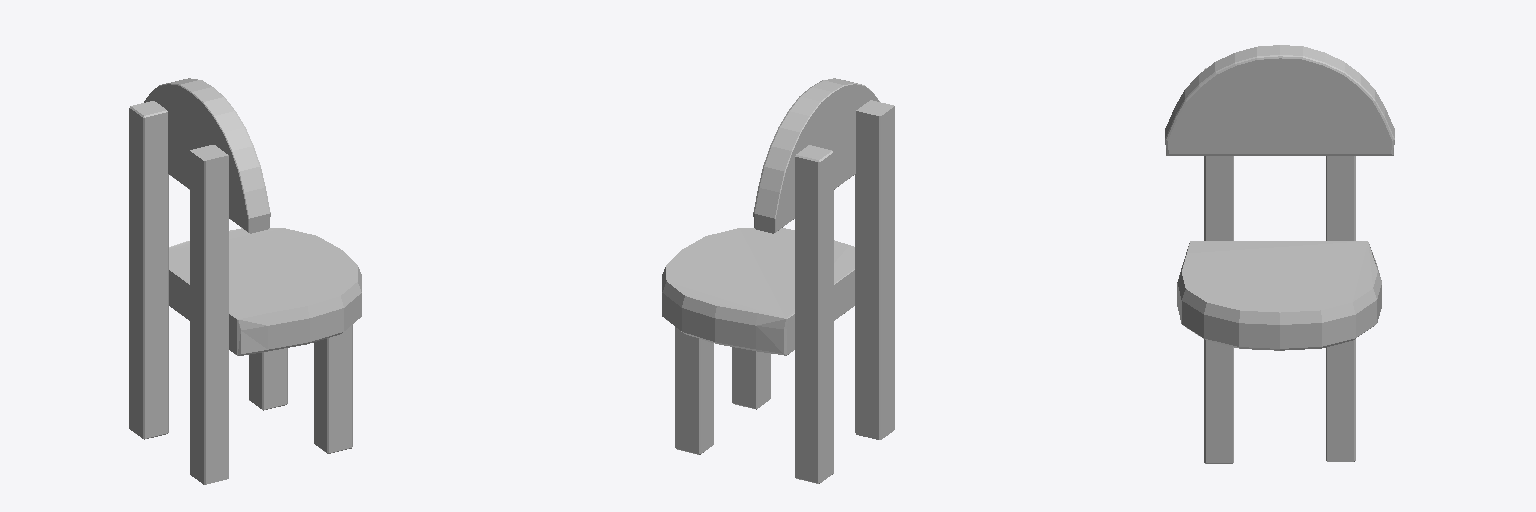
File: chair2.obj
The picture shows the model from 3 angles: view 1: azimuth 30°, elevation 25°; view 2: azimuth 150°, elevation 25°; view 3: azimuth 270°, elevation 25°; orthographic projection.
Visible parts, largest first — view 1: chair_2 chairs; view 2: chair_2 chairs; view 3: chair_2 chairs.
Part boxes in pixels (x1,y1,x2,y2): chair_2 chairs: (129,78,361,484); chair_2 chairs: (662,78,894,483); chair_2 chairs: (1165,45,1394,463).
Bounding box in the file's own units: 1.03 × 1.97 × 1.14.